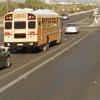Bus: (4, 6, 64, 50)
